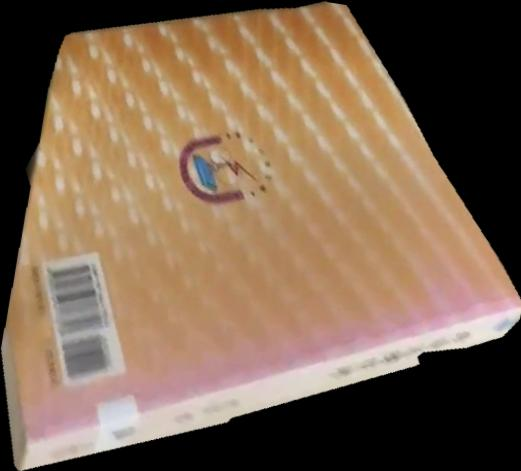flat: (1, 1, 521, 471)
